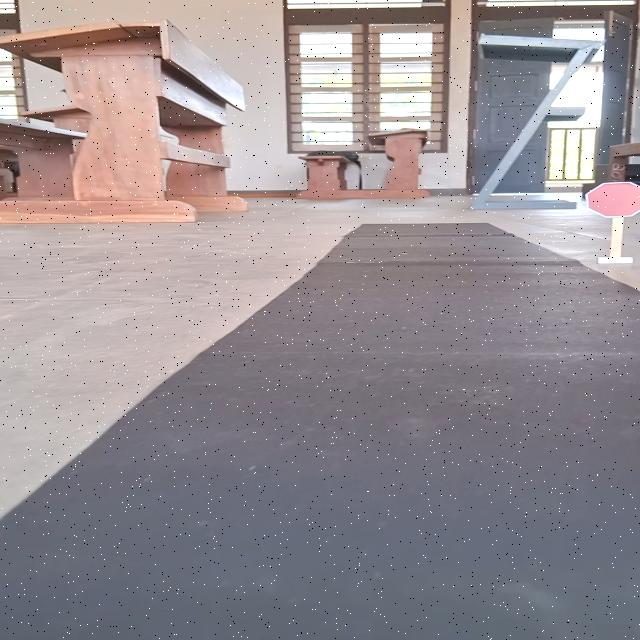Stop: (583, 180, 640, 218)
